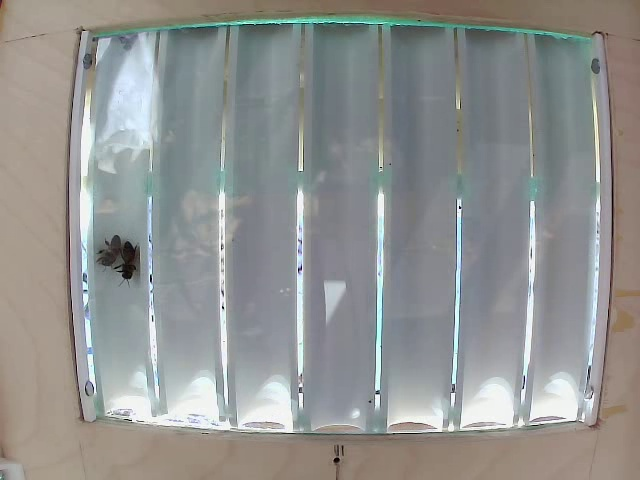bee: (89, 231, 130, 273), (117, 235, 145, 292)
